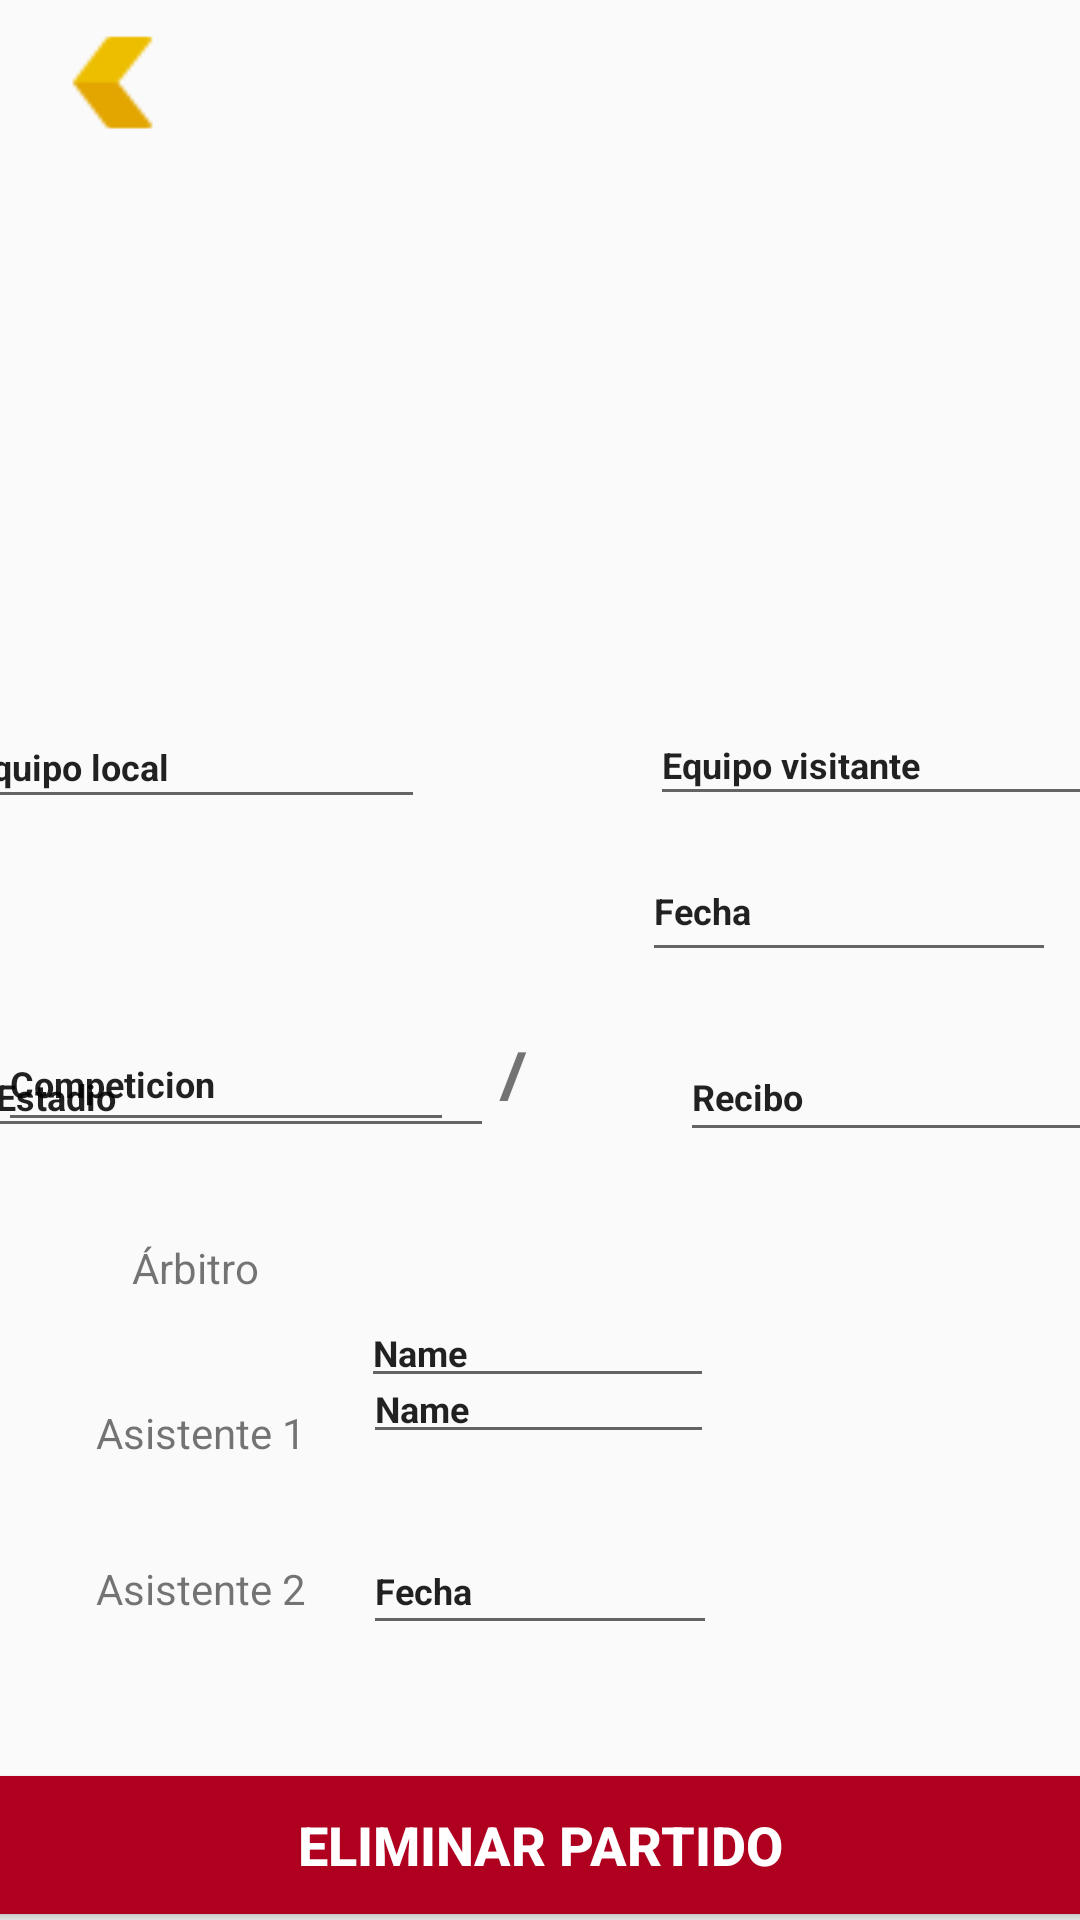

Named icons in this screenshot (1080px×1920px) and their centers, (x=x, y=y):
volveroro: (x=112, y=82)
